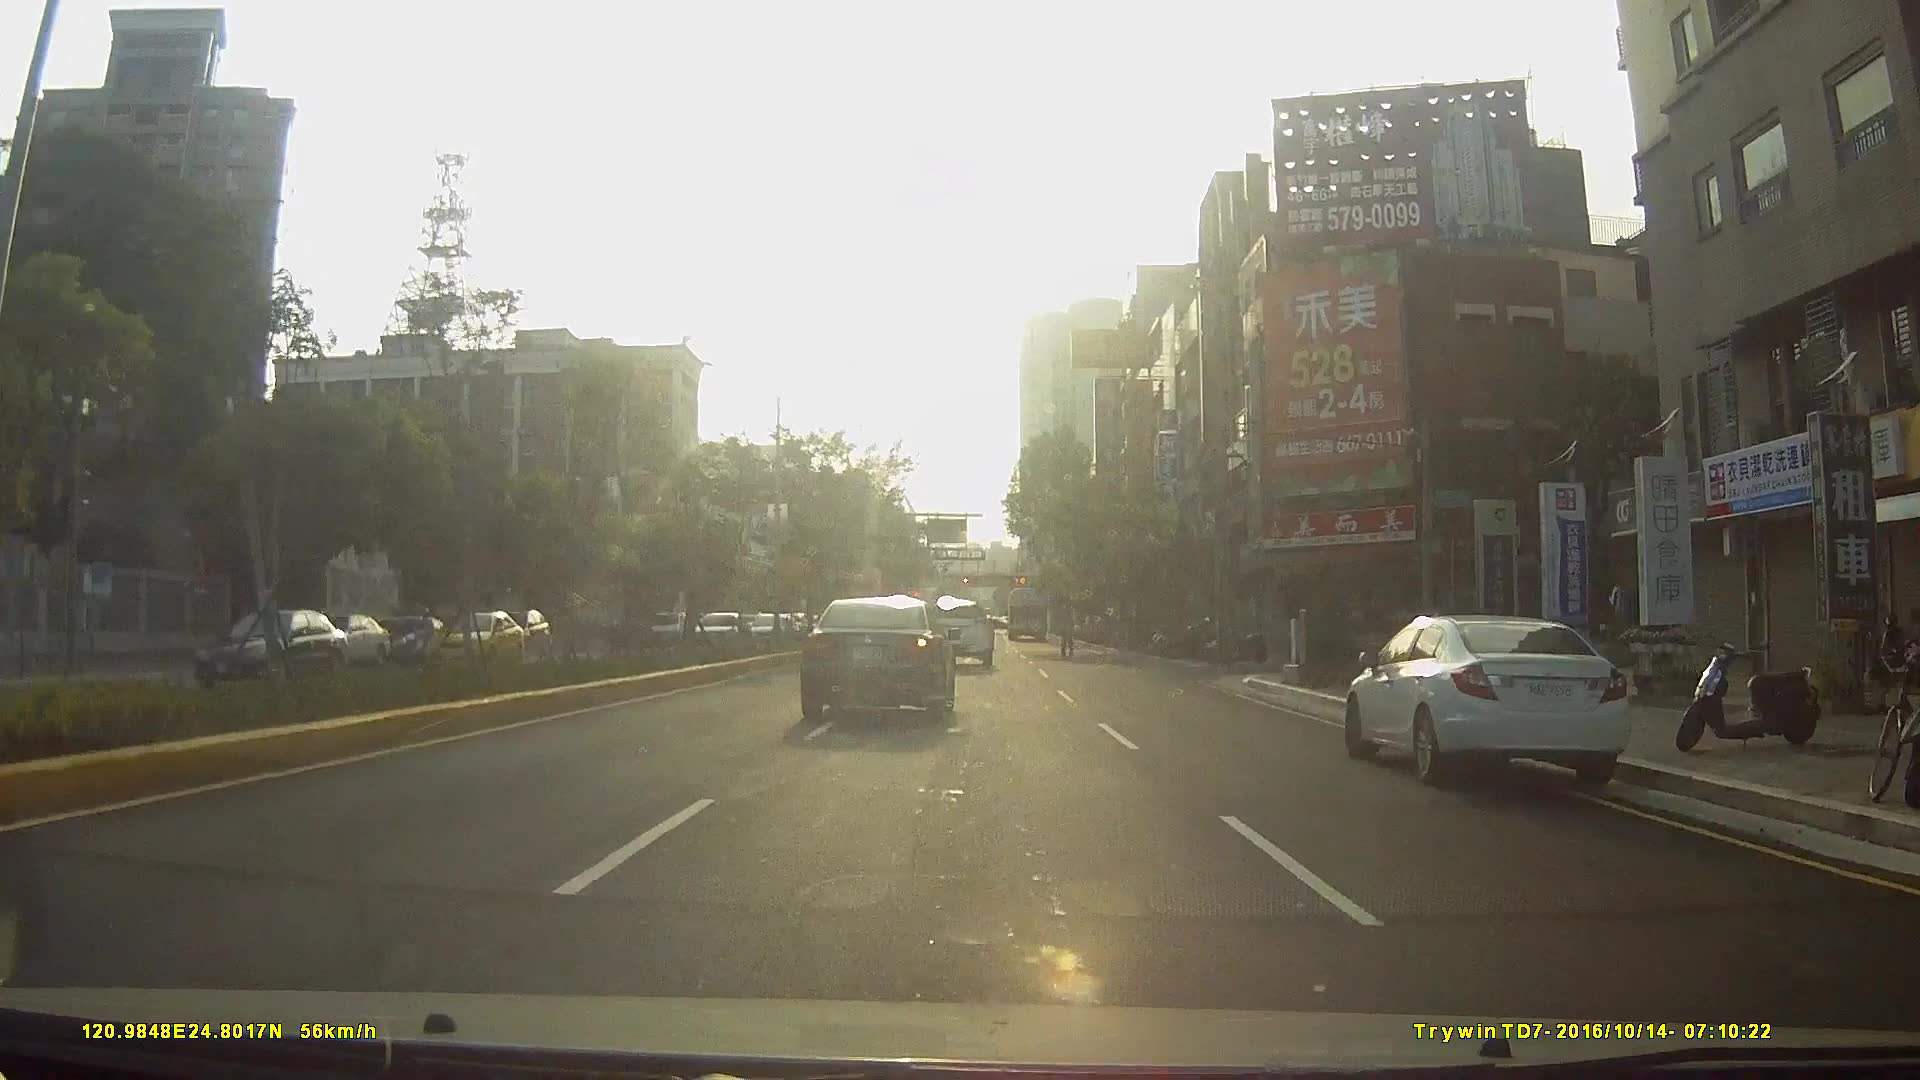vehicle: (1331, 613, 1662, 796), (798, 593, 957, 721), (175, 601, 368, 694), (419, 607, 533, 683), (919, 593, 996, 669), (291, 611, 385, 671), (367, 616, 447, 666), (483, 605, 549, 658), (687, 615, 752, 659), (1005, 587, 1048, 644), (742, 611, 789, 644), (645, 607, 686, 644)
